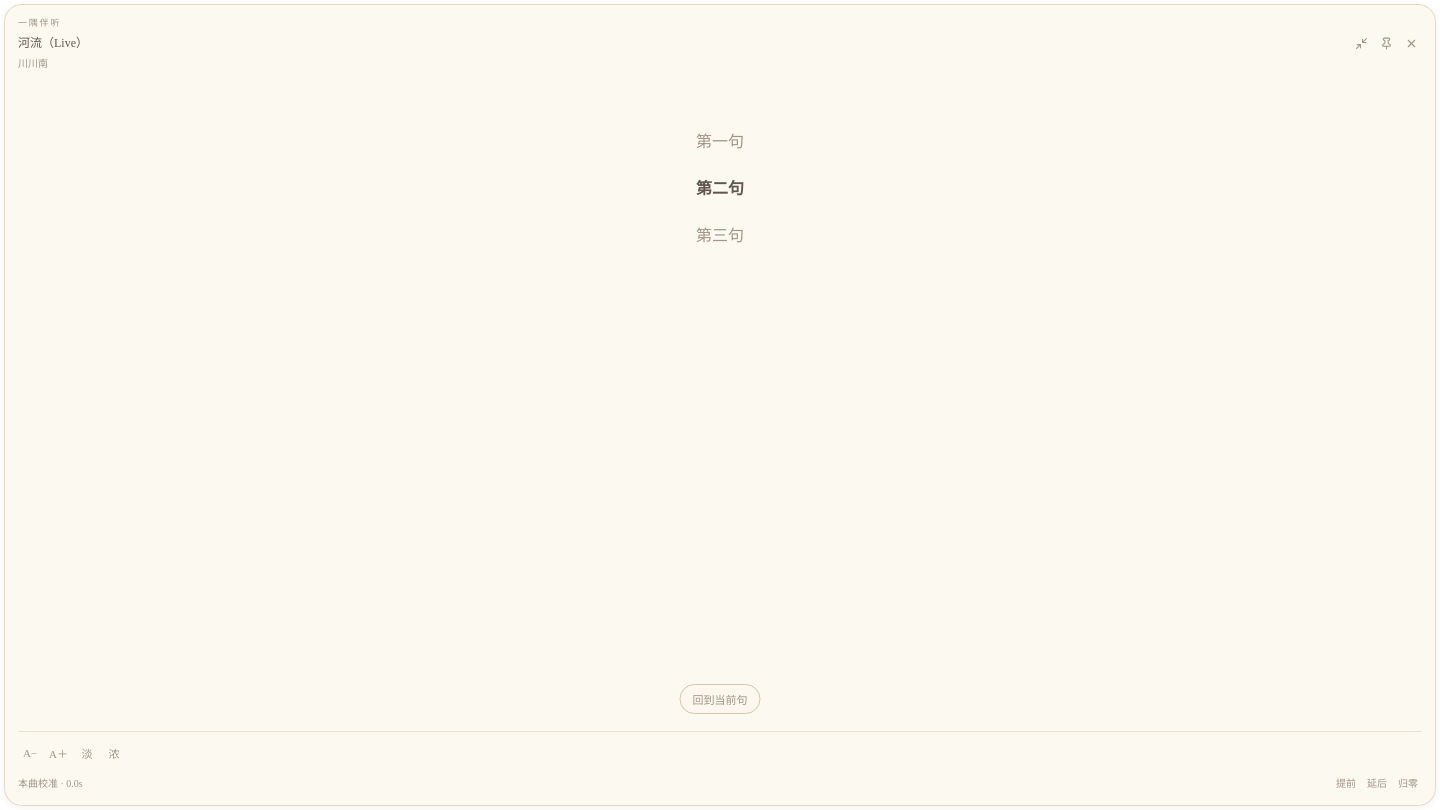
dedicated lyrics presentation › pauses following on manual scroll and offers an explicit resume
Expected: the text "第一句" is shown, [696,133,744,150]
Step 1. Click the button "回到当前句" → (720, 699), box [680,684,760,714]
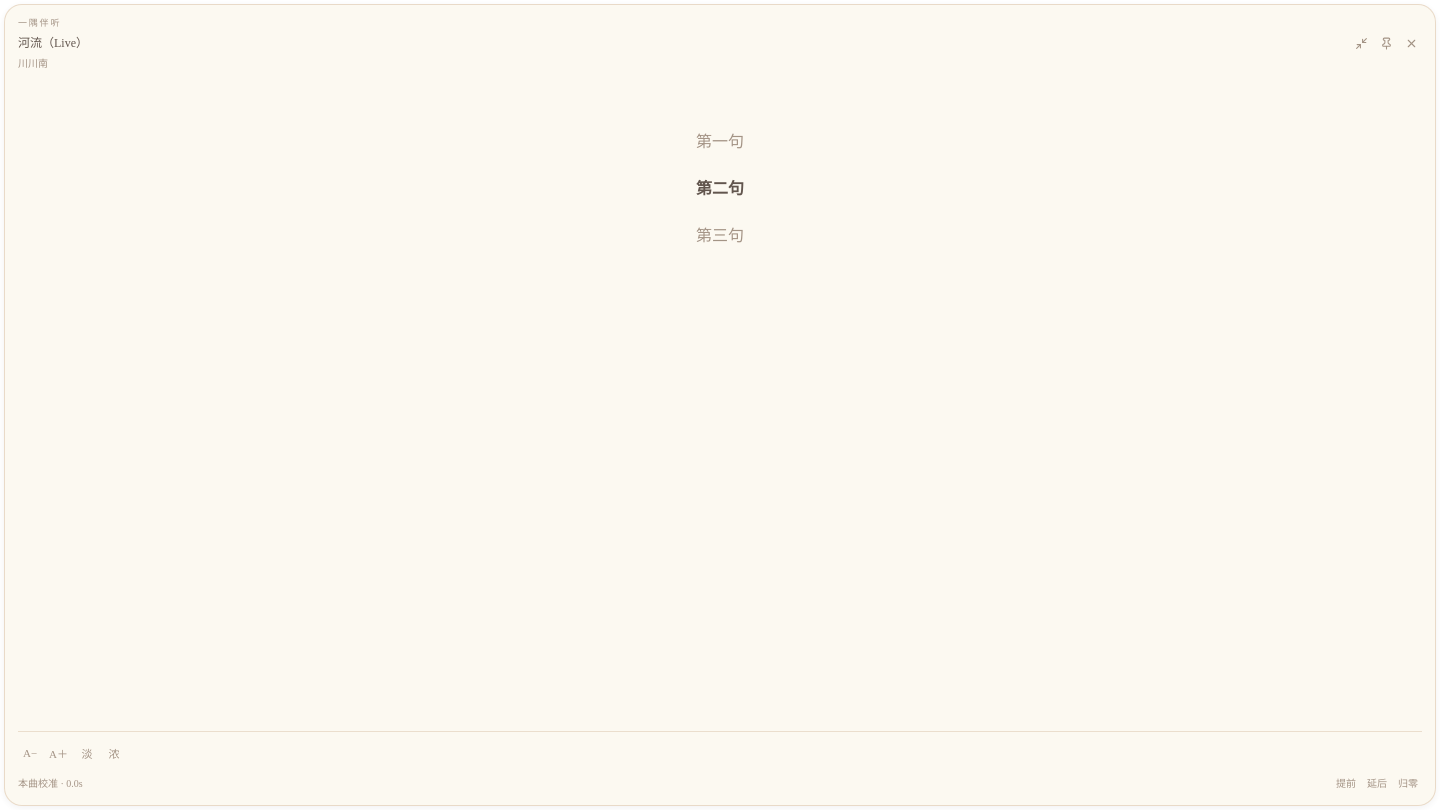
Result: the button "回到当前句" is gone
